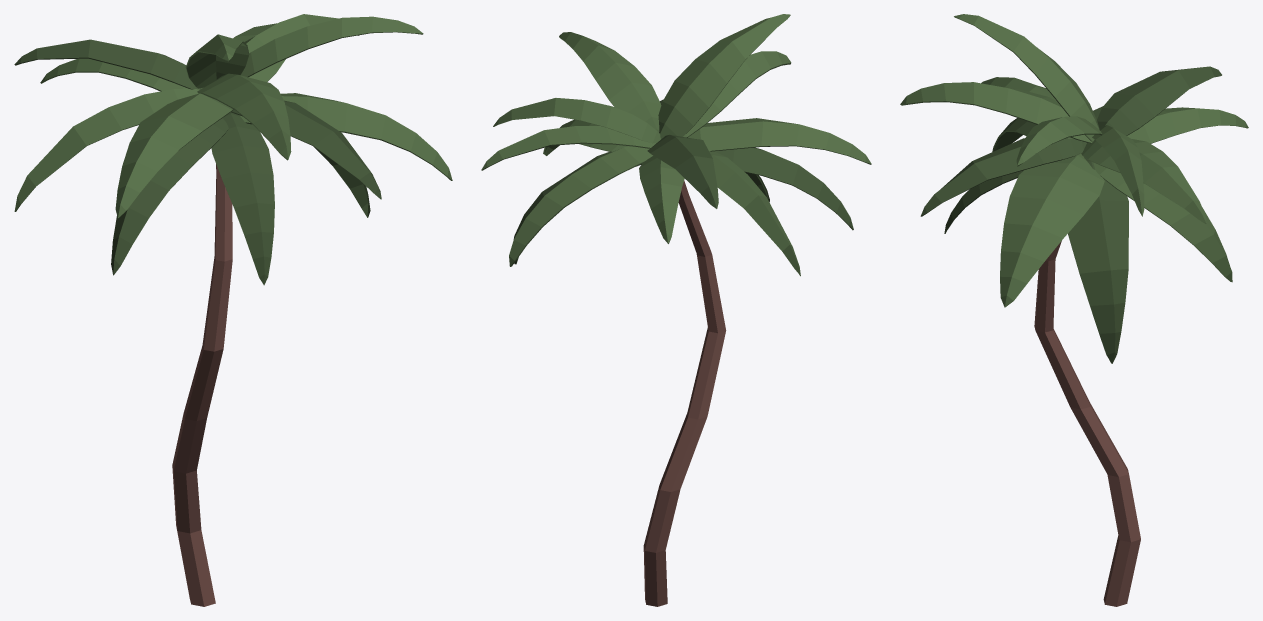
Rendered from palmtree_1_lev1.glb.
The picture shows the model from 3 angles, left to right: view 1: azimuth 30°, elevation 25°; view 2: azimuth 150°, elevation 25°; view 3: azimuth 270°, elevation 25°; orthographic projection. The views are drawn at different scales.
Parts seen in each view (by area): view 1: palmtree_1_lev1; view 2: palmtree_1_lev1; view 3: palmtree_1_lev1.
Boxes of the visible parts, box(x1,y1,x2,y2) form: palmtree_1_lev1: box(14, 14, 452, 606); palmtree_1_lev1: box(481, 14, 871, 606); palmtree_1_lev1: box(900, 14, 1248, 606).
Bounding box in the file's own units: 2.73 × 4.47 × 2.52.
